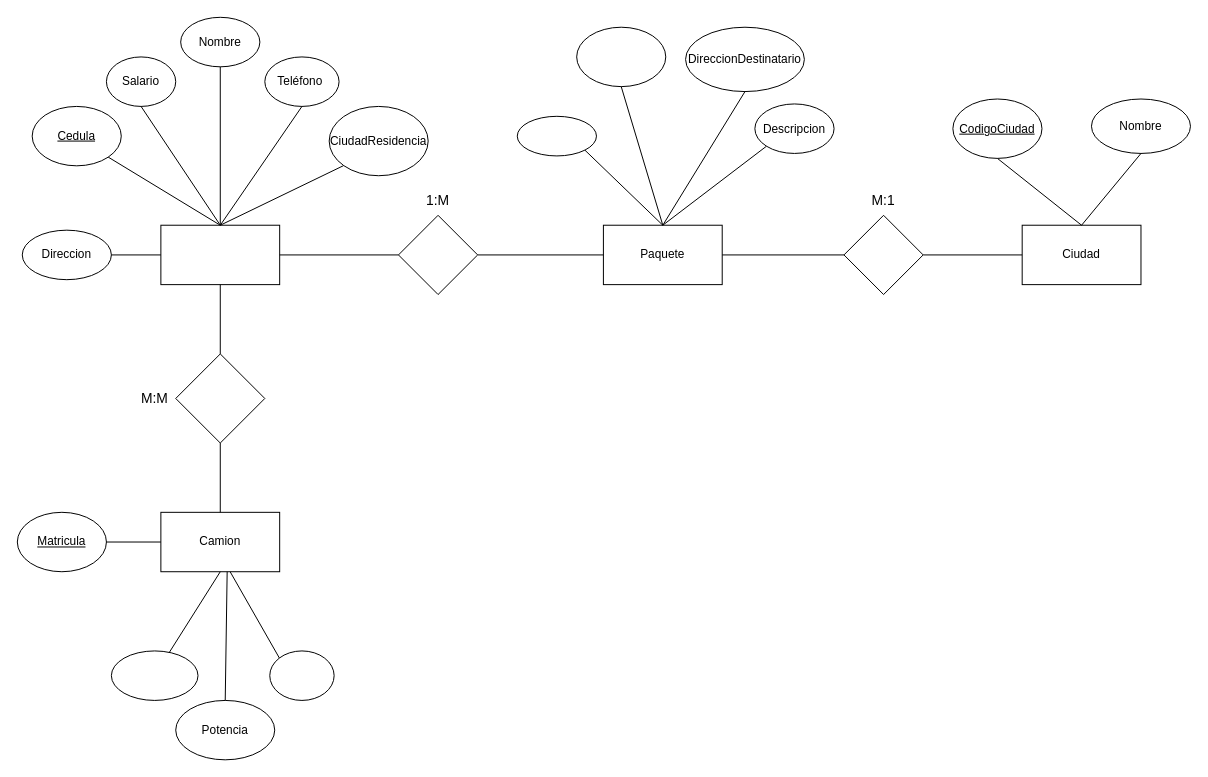
Some shapes in this 1208 by 777 pixel diagram are drawn without their labels. Each missing label, with the centre of its shape:
"Codigo" belongs at point (556, 135).
"Conductor" belongs at point (220, 254).
"Destinatario" belongs at point (621, 56).
"Distribuir" belongs at point (437, 254).
"Manejar" belongs at point (220, 398).
"Modelo" belongs at point (154, 675).
"Tipo" belongs at point (301, 675).
"Transportar" belongs at point (883, 254).
